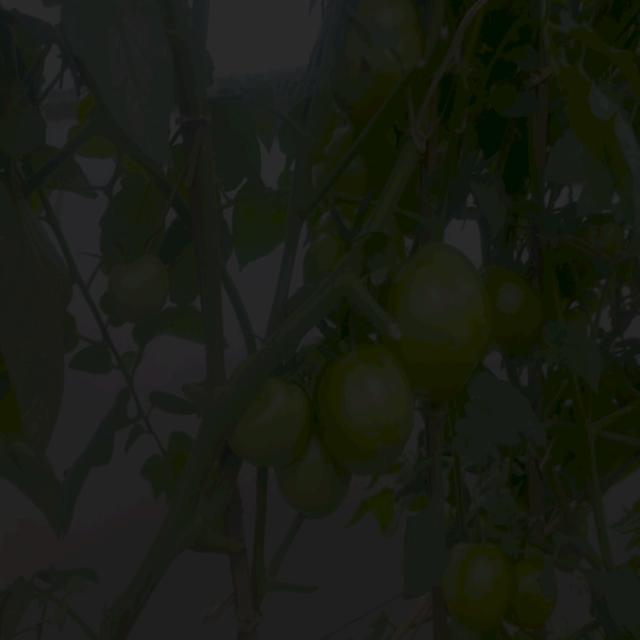tomato: (391, 236, 488, 398), (318, 344, 420, 470), (443, 539, 521, 633), (472, 257, 551, 343), (278, 439, 354, 522), (241, 384, 316, 464), (351, 3, 421, 81), (511, 539, 562, 633), (111, 257, 175, 316), (307, 209, 356, 269), (317, 131, 365, 188)
